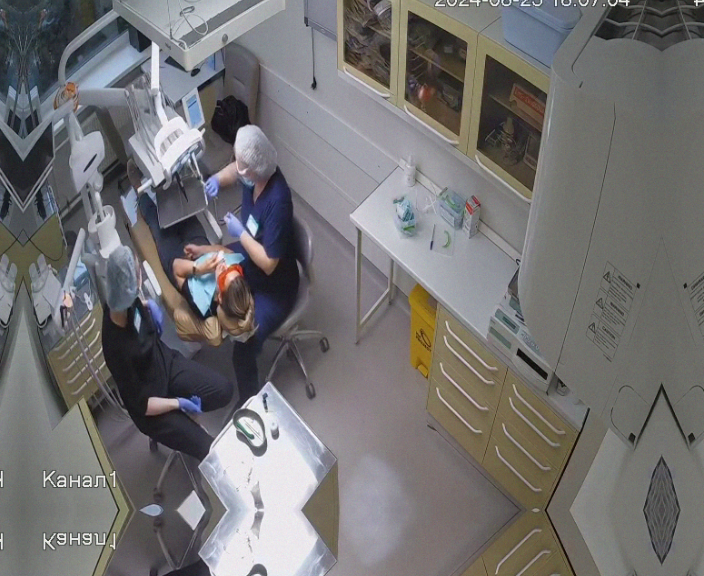Patient: (113, 163, 258, 345)
